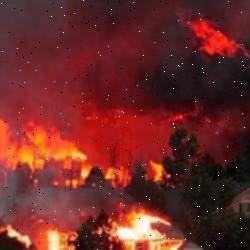fire: (0, 112, 169, 246)
